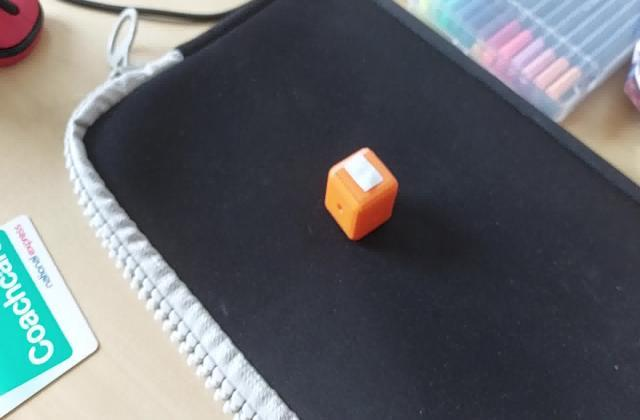sticker: (323, 148, 402, 245)
white: (345, 164, 385, 194)
